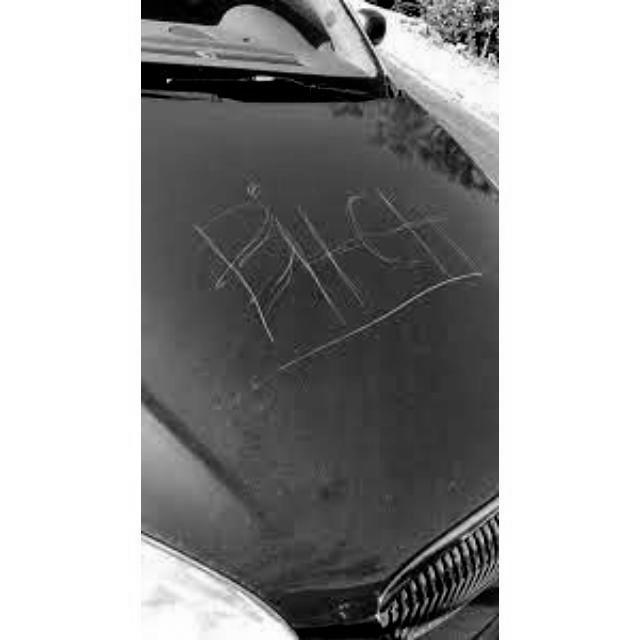bonnet-dent: (141, 96, 497, 588)
